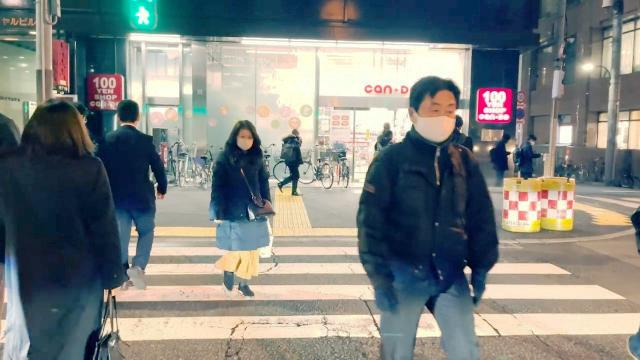berjalan: (355, 78, 499, 360), (95, 102, 171, 292), (202, 118, 276, 292), (280, 127, 308, 198)
